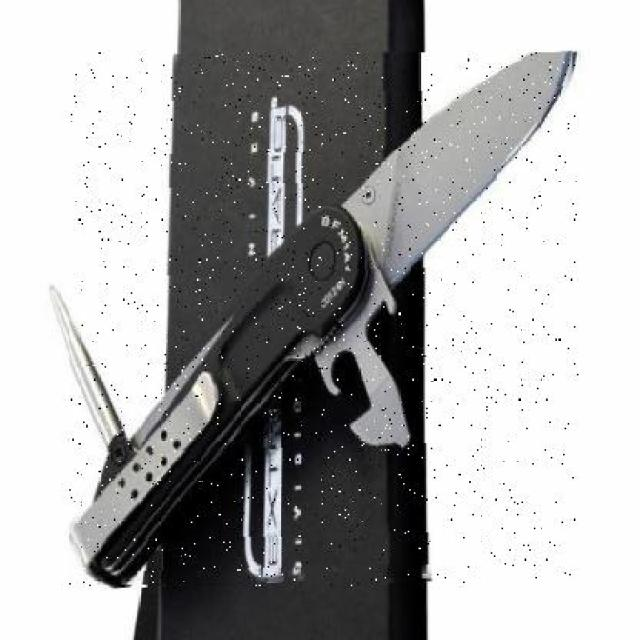knife: (70, 52, 578, 586)
